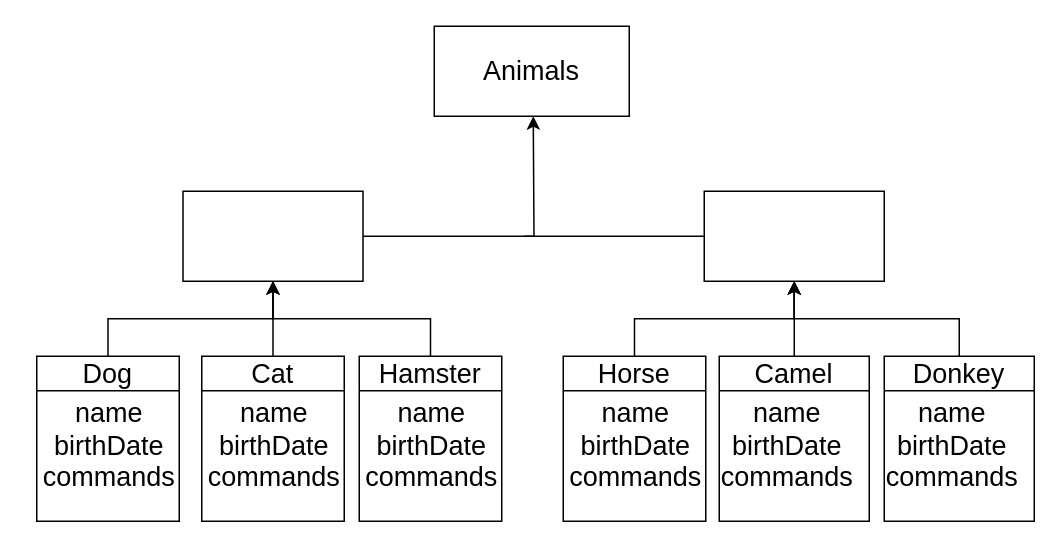
The diagram is 1061 pixels wide and 548 high, and some of its shapes have lost their labels. Each missing label, with the centre of its shape:
PackAnimals: [793,235]
Pets: [272,235]
